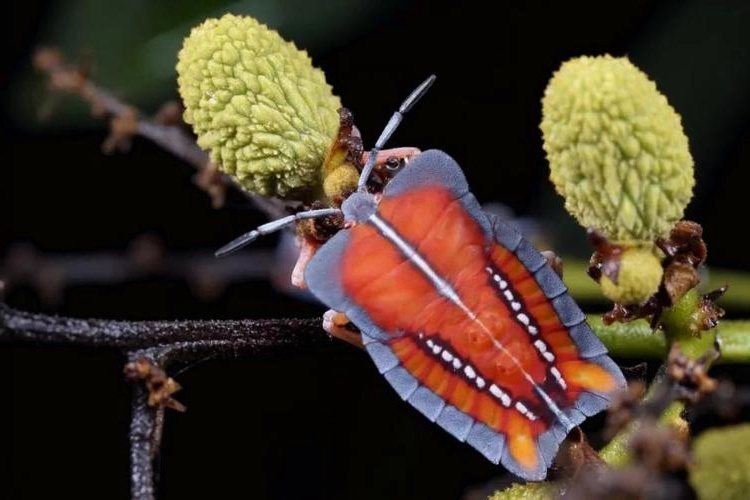Stink_Bug: (326, 148, 611, 488)
